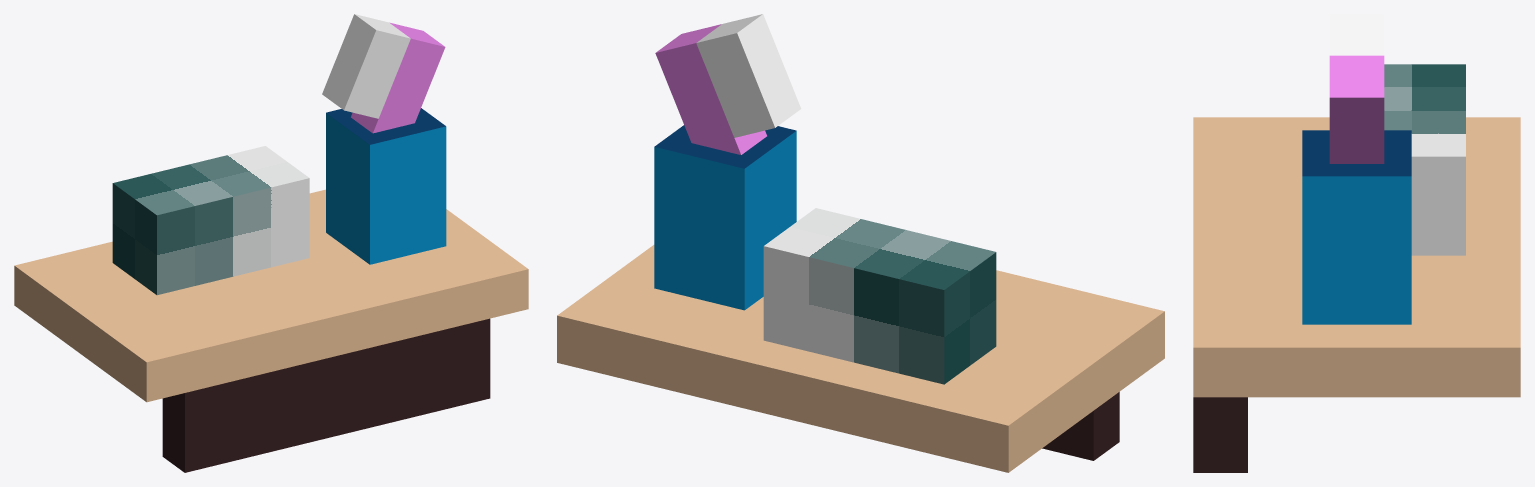
The model's file is SmallWallShelf.fbx.
3 views of the same model, side by side, from view 1: azimuth 30°, elevation 25°; view 2: azimuth 150°, elevation 25°; view 3: azimuth 270°, elevation 25° (orthographic). The views are drawn at different scales.
Visible parts, largest first — view 1: cube, cube_1, toothpaste, glass, cube_3, cube_2; view 2: cube, toothpaste, glass, cube_3, cube_2, cube_1; view 3: cube, glass, toothpaste, cube_2, cube_1, cube_3.
Part boxes in pixels (<box>): cube: <box>14,189,528,402</box>; cube_1: <box>162,318,490,472</box>; toothpaste: <box>112,146,309,295</box>; glass: <box>326,108,446,264</box>; cube_3: <box>322,14,410,118</box>; cube_2: <box>351,22,445,133</box>; cube: <box>557,221,1164,472</box>; toothpaste: <box>763,208,996,384</box>; glass: <box>654,125,796,310</box>; cube_3: <box>696,14,801,137</box>; cube_2: <box>655,24,766,154</box>; cube_1: <box>1042,392,1119,460</box>; cube: <box>1193,117,1520,397</box>; glass: <box>1302,130,1411,324</box>; toothpaste: <box>1384,64,1465,255</box>; cube_2: <box>1329,55,1384,163</box>; cube_1: <box>1193,397,1247,472</box>; cube_3: <box>1329,14,1384,55</box>.
Size of the model in its own units: 62.5 by 53.53 by 37.5.
1 material, 1 textured.
